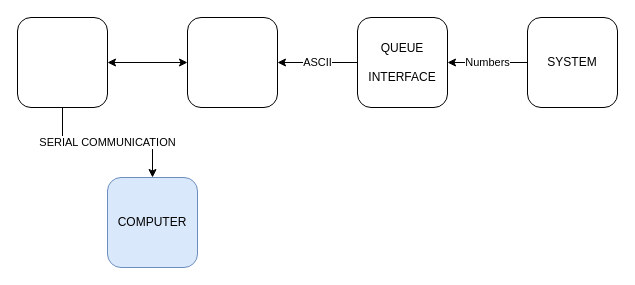
Some shapes in this 635 by 285 pixel diagram are drawn without their labels. The shapes that lost their labels are listed below. From the top down, each one's box as (x1, y1, x2, y2) in pixels, then its label:
(16, 16, 108, 108): SCI HW
(186, 16, 278, 108): QUEUE OBJECT
